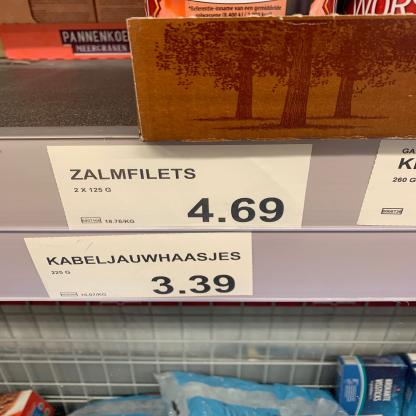prtg: (25, 140, 415, 301), (48, 144, 316, 231)
